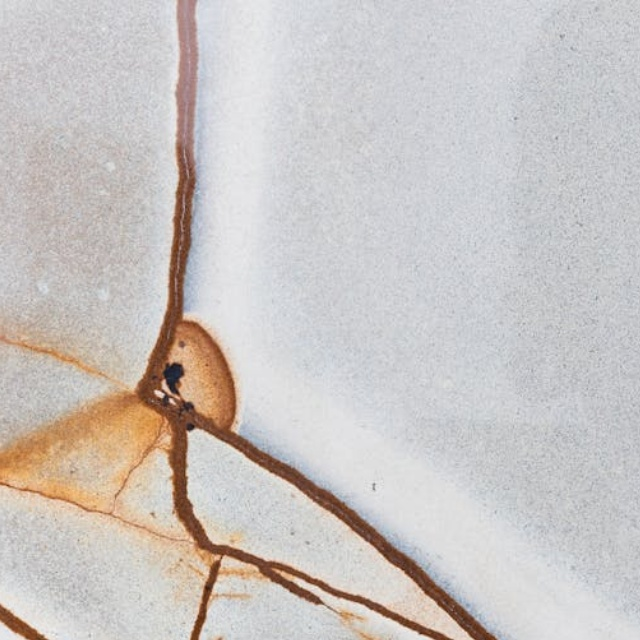细微裂纹: (100, 7, 233, 510), (130, 0, 222, 355)
